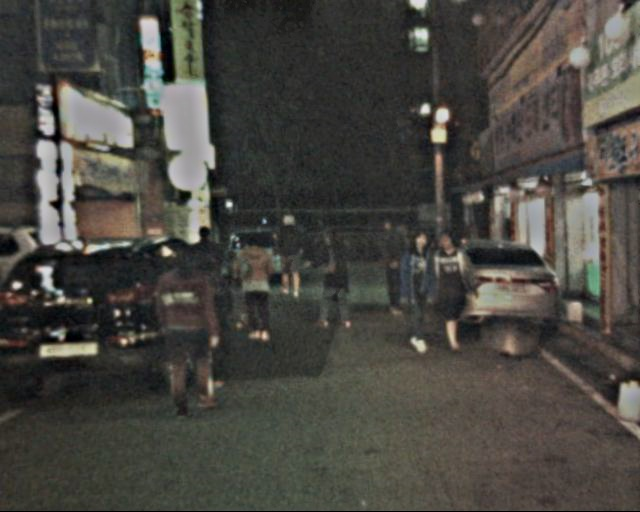person: (155, 247, 219, 405), (425, 231, 477, 351), (395, 231, 445, 353), (309, 227, 356, 329), (234, 232, 276, 337), (186, 228, 230, 328), (370, 217, 411, 314), (271, 215, 306, 299)
